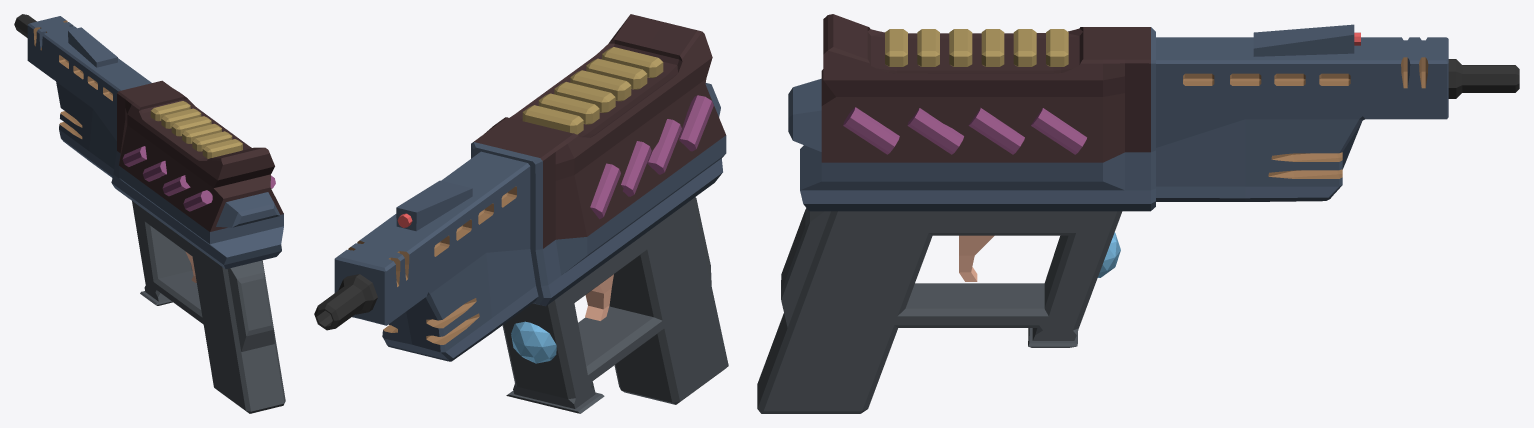
Rendered from bilun - nerf gun.fbx.
3 views of the same model, side by side, from view 1: azimuth 30°, elevation 25°; view 2: azimuth 150°, elevation 25°; view 3: azimuth 270°, elevation 25° (orthographic). The views are drawn at different scales.
Parts seen in each view (by area): view 1: Cube.003, Cube.001, Cube.004, Cylinder.001, Cylinder; view 2: Cube.003, Cube.001, Cube.004, Cylinder.001, Cylinder, Icosphere, Cube.002; view 3: Cube.003, Cube.001, Cube.004, Cylinder.001, Cylinder, Cube.002.
Part boxes in pixels (bbox=[...]): Cube.003: bbox=[27, 16, 283, 269]; Cube.001: bbox=[132, 201, 285, 413]; Cube.004: bbox=[150, 101, 242, 158]; Cylinder.001: bbox=[122, 146, 275, 211]; Cylinder: bbox=[14, 14, 36, 37]; Cube.003: bbox=[334, 14, 726, 361]; Cube.001: bbox=[502, 197, 728, 413]; Cube.004: bbox=[522, 47, 663, 134]; Cylinder.001: bbox=[590, 95, 713, 219]; Cylinder: bbox=[314, 274, 377, 330]; Icosphere: bbox=[511, 321, 556, 363]; Cube.002: bbox=[585, 274, 613, 320]; Cube.003: bbox=[788, 14, 1448, 211]; Cube.001: bbox=[757, 208, 1122, 413]; Cube.004: bbox=[885, 29, 1068, 66]; Cylinder.001: bbox=[843, 107, 1086, 154]; Cylinder: bbox=[1448, 59, 1519, 98]; Cube.002: bbox=[959, 235, 994, 281].
Bounding box in the file's own units: 8.82 × 25.3 × 47.02.
